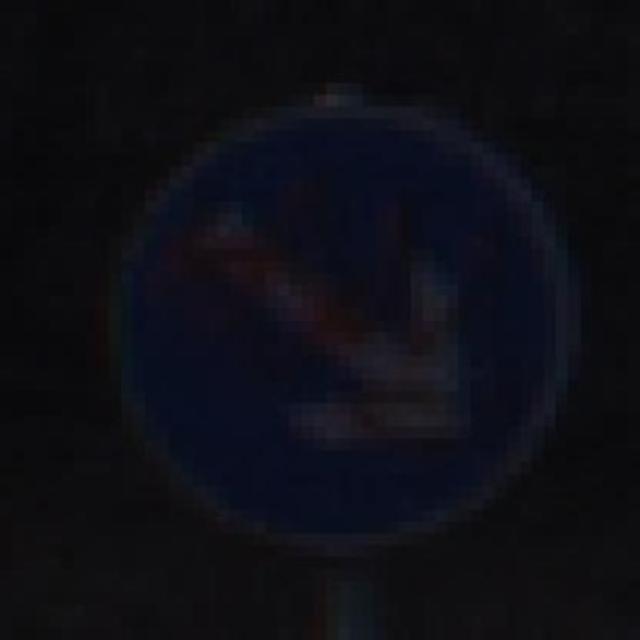Keep-Right: (60, 94, 592, 546)
